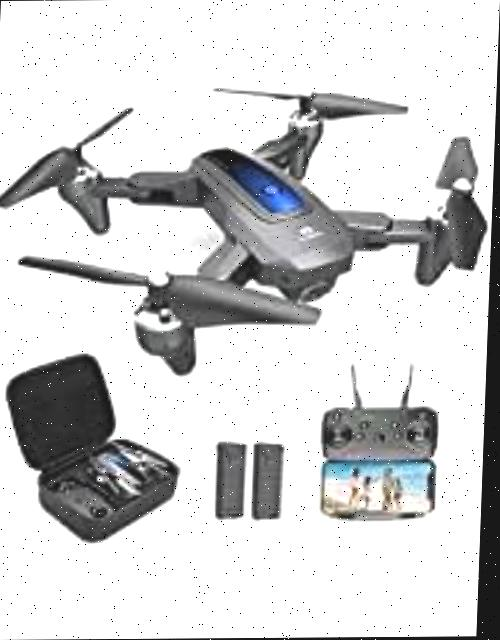drone: (0, 57, 489, 392)
